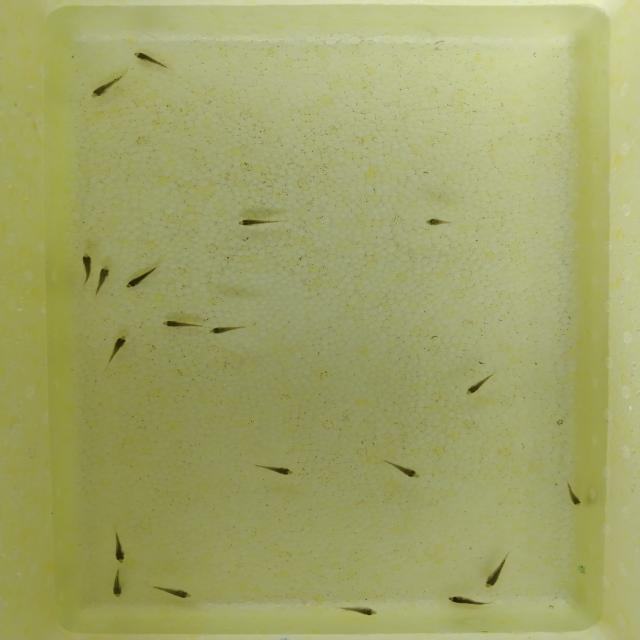fingerling: (149, 581, 198, 601), (126, 50, 174, 69), (108, 535, 139, 563), (385, 460, 426, 481), (255, 461, 298, 481), (124, 268, 158, 292), (90, 77, 124, 100), (106, 568, 128, 601), (444, 591, 486, 608), (202, 323, 259, 335), (110, 331, 132, 361), (341, 604, 383, 619), (482, 560, 499, 591), (77, 251, 95, 280), (562, 483, 583, 507), (96, 264, 112, 295), (465, 377, 490, 396), (161, 319, 203, 329), (239, 216, 278, 226), (427, 216, 458, 227)
